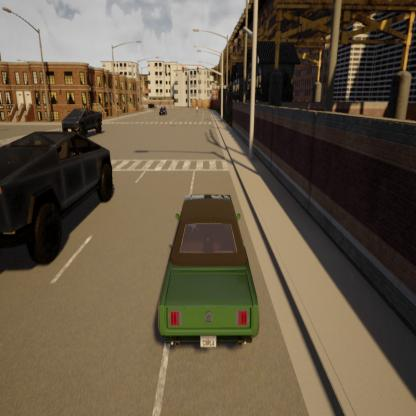Cars: (140, 162, 273, 362), (0, 104, 116, 306), (56, 77, 110, 141), (152, 89, 174, 127)
